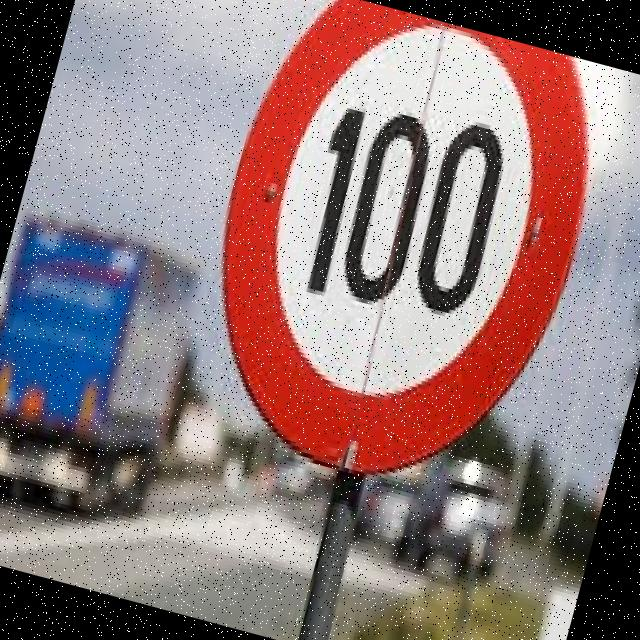speed_limit_100: (163, 0, 622, 514)
